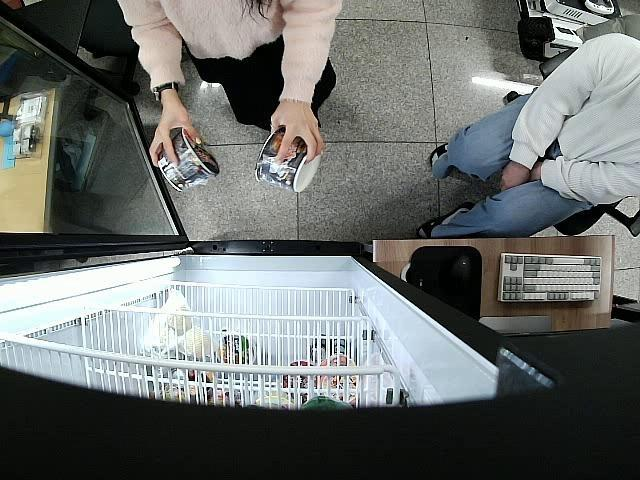07_buldak_L: (149, 124, 222, 193), (255, 128, 320, 192)
